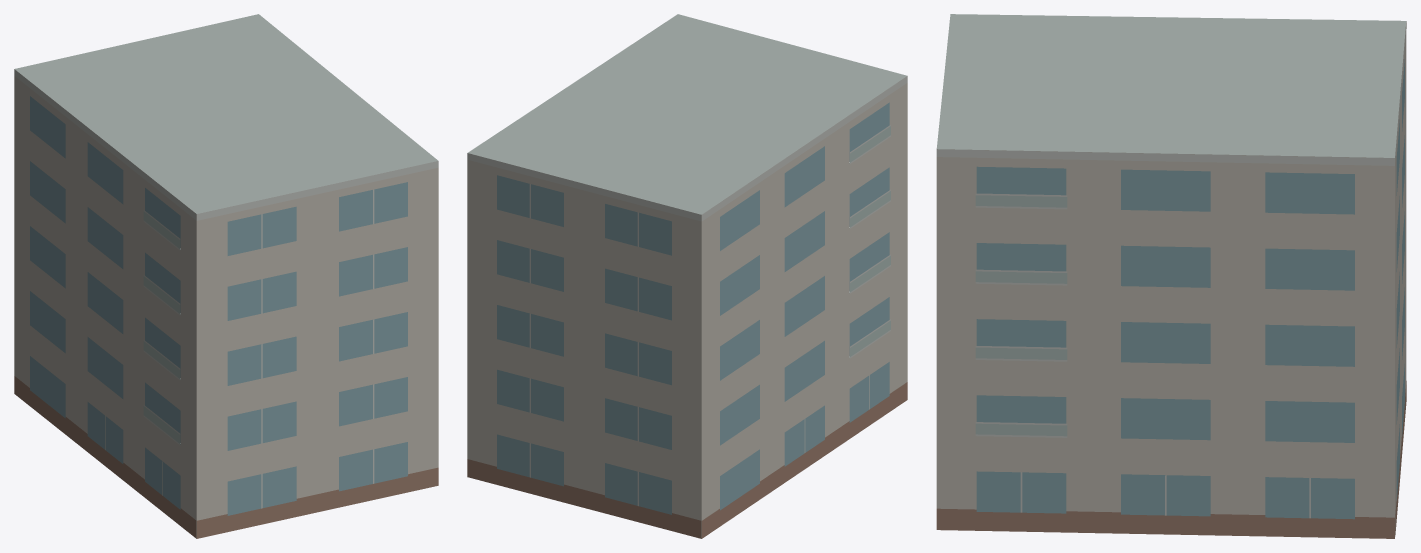
The model's file is survey-upis-32652779.glb.
The picture shows the model from 3 angles, left to right: view 1: azimuth 30°, elevation 25°; view 2: azimuth 150°, elevation 25°; view 3: azimuth 270°, elevation 25°; orthographic projection. The views are drawn at different scales.
Parts seen in each view (by area): view 1: survey-upis-32652779.tmp; view 2: survey-upis-32652779.tmp; view 3: survey-upis-32652779.tmp.
Boxes of the visible parts, x1,y1,x2,y2 form: survey-upis-32652779.tmp: (14, 14, 438, 538); survey-upis-32652779.tmp: (467, 14, 907, 538); survey-upis-32652779.tmp: (936, 14, 1406, 538).
Bounding box in the file's own units: 9.5 × 11.7 × 13.09.
